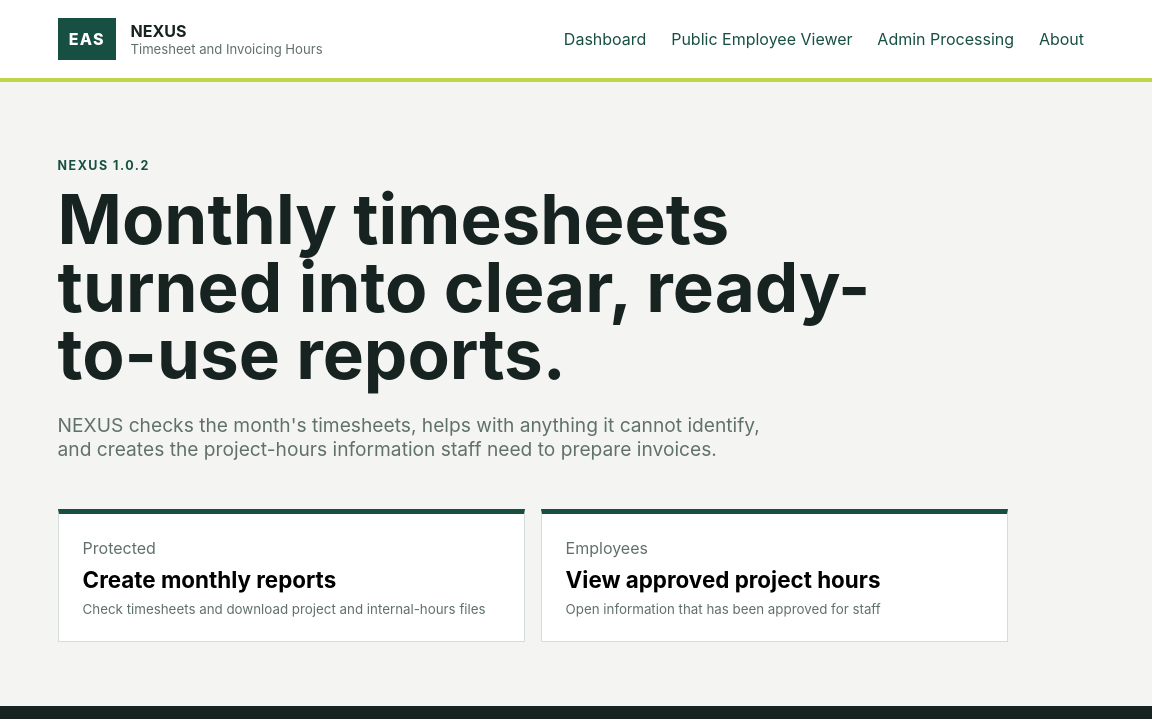
Test: redirects admin navigation to the workstation gate
The width and height of the screenshot is (1152, 719).
Click the button "Admin Processing" at (946, 39), box top-left (867, 19), bottom-right (1024, 59)
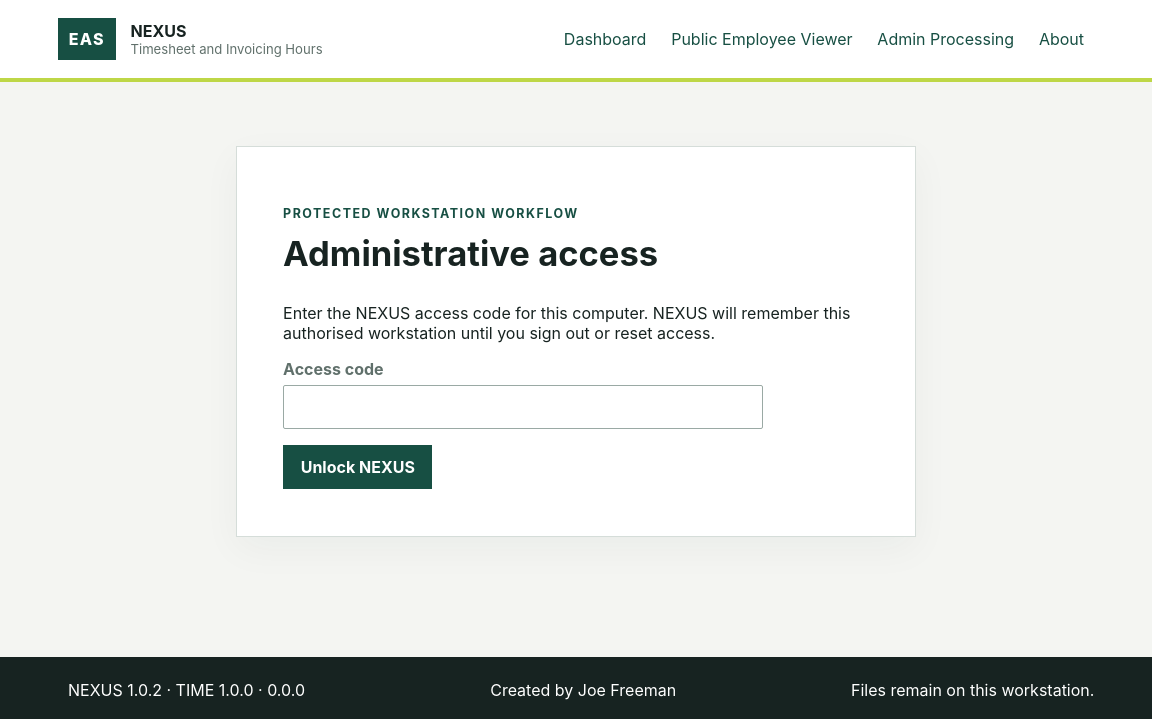
Now the heading "Administrative access" is shown, box top-left (283, 233), bottom-right (658, 274)
Now the password field labelled "Access code" is shown, box top-left (283, 385), bottom-right (763, 430)
Now the button "Unlock NEXUS" is shown, box top-left (283, 446), bottom-right (432, 490)
